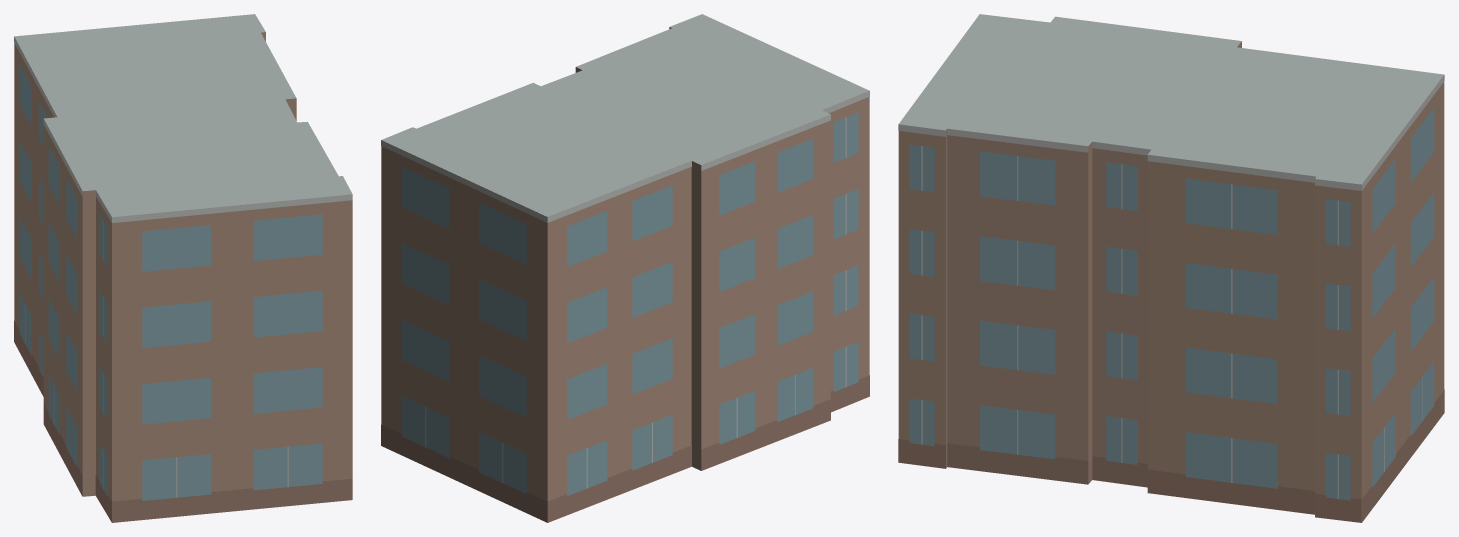
Rendered from survey-upis-32636652.glb.
3 renders of one model, left to right at view 1: azimuth 30°, elevation 25°; view 2: azimuth 150°, elevation 25°; view 3: azimuth 270°, elevation 25°, orthographic. The views are drawn at different scales.
Parts seen in each view (by area): view 1: survey-upis-32636652.tmp; view 2: survey-upis-32636652.tmp; view 3: survey-upis-32636652.tmp.
Part boxes in pixels (box(x1,y1,x2,y2)): survey-upis-32636652.tmp: box(14, 14, 352, 522); survey-upis-32636652.tmp: box(381, 14, 869, 522); survey-upis-32636652.tmp: box(898, 14, 1444, 522).
Bounding box in the file's own units: 13.85 × 12.8 × 18.73.
